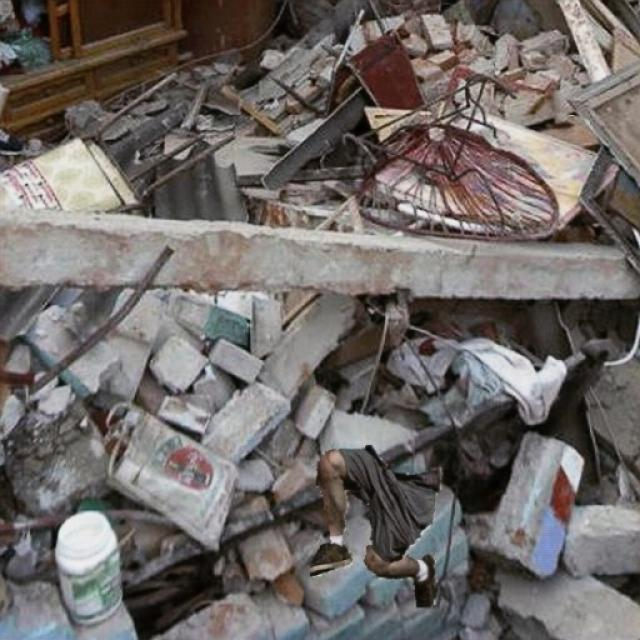Person in Rubble: (310, 445, 441, 606)
